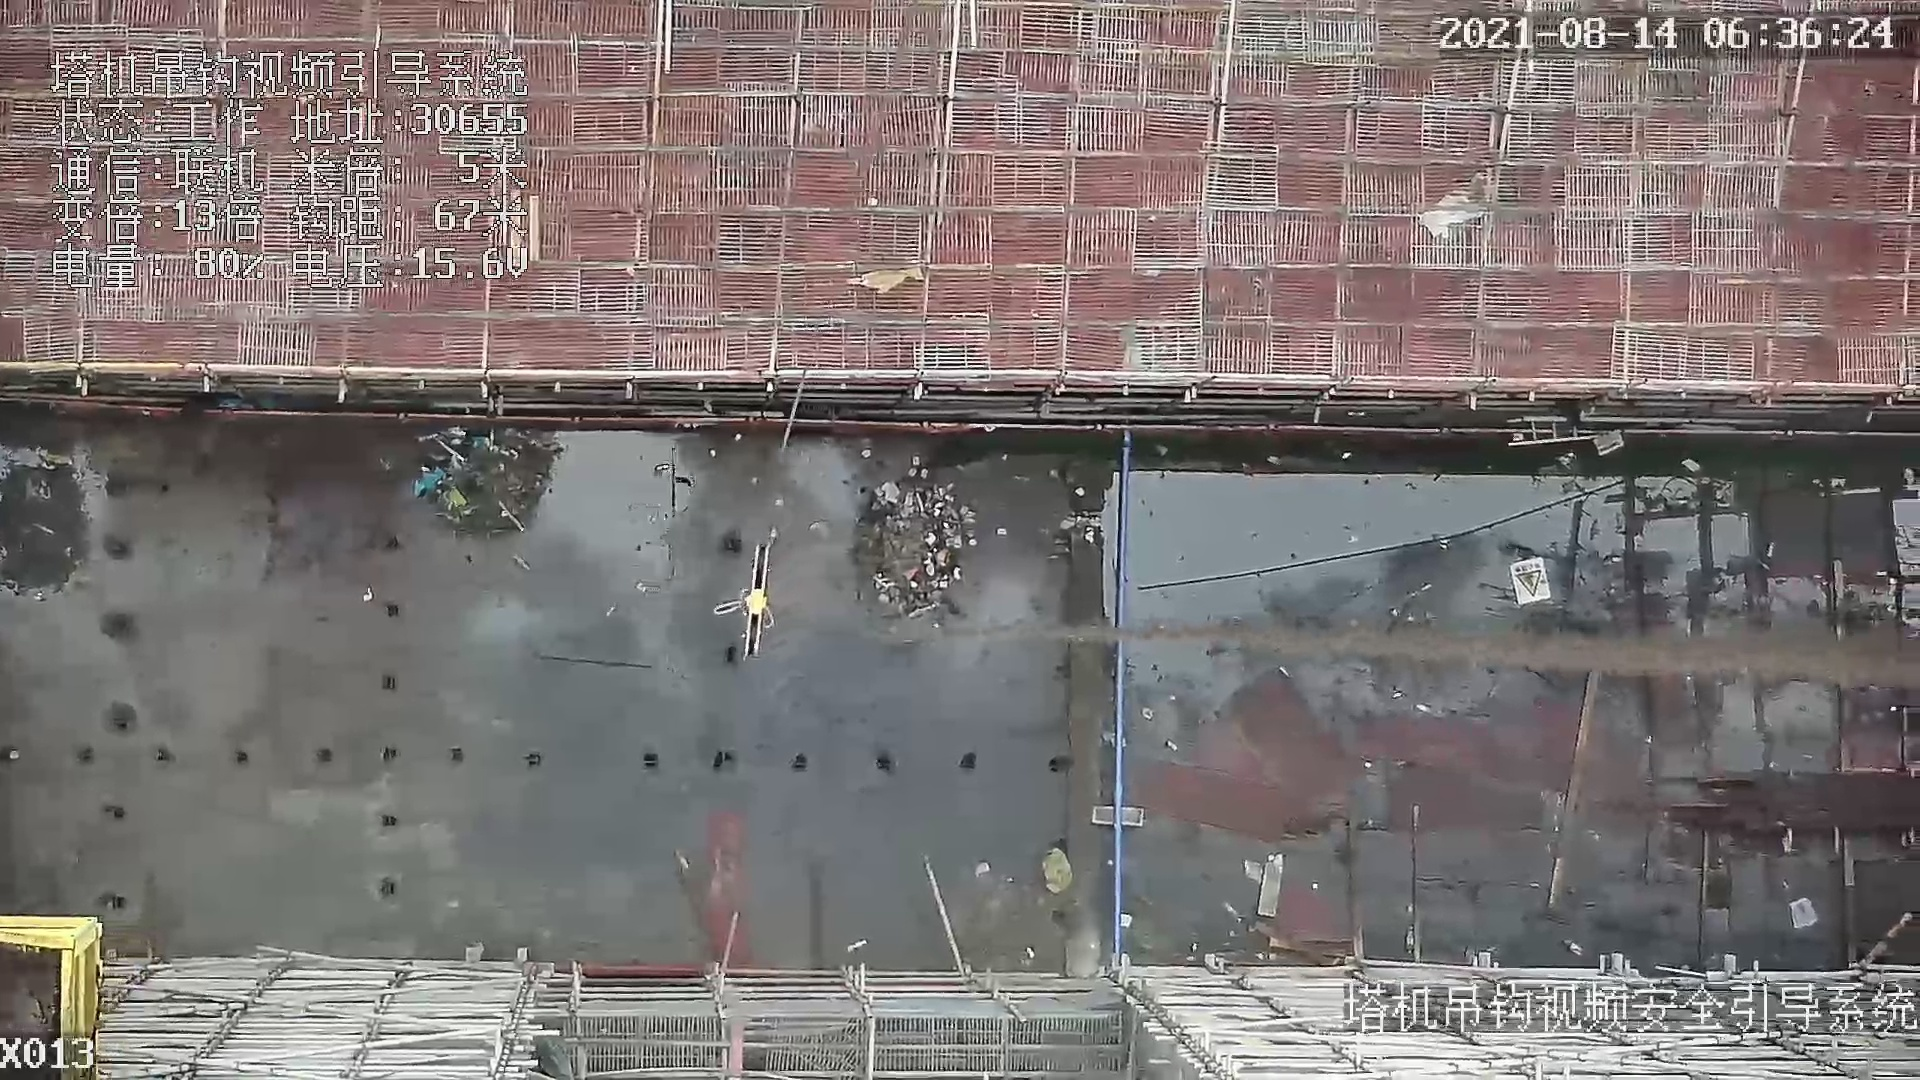hook: (715, 541, 781, 655)
